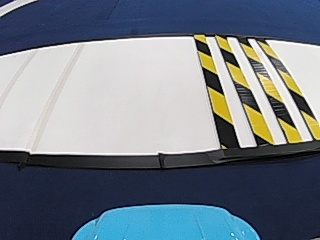bump: (183, 34, 307, 140)
